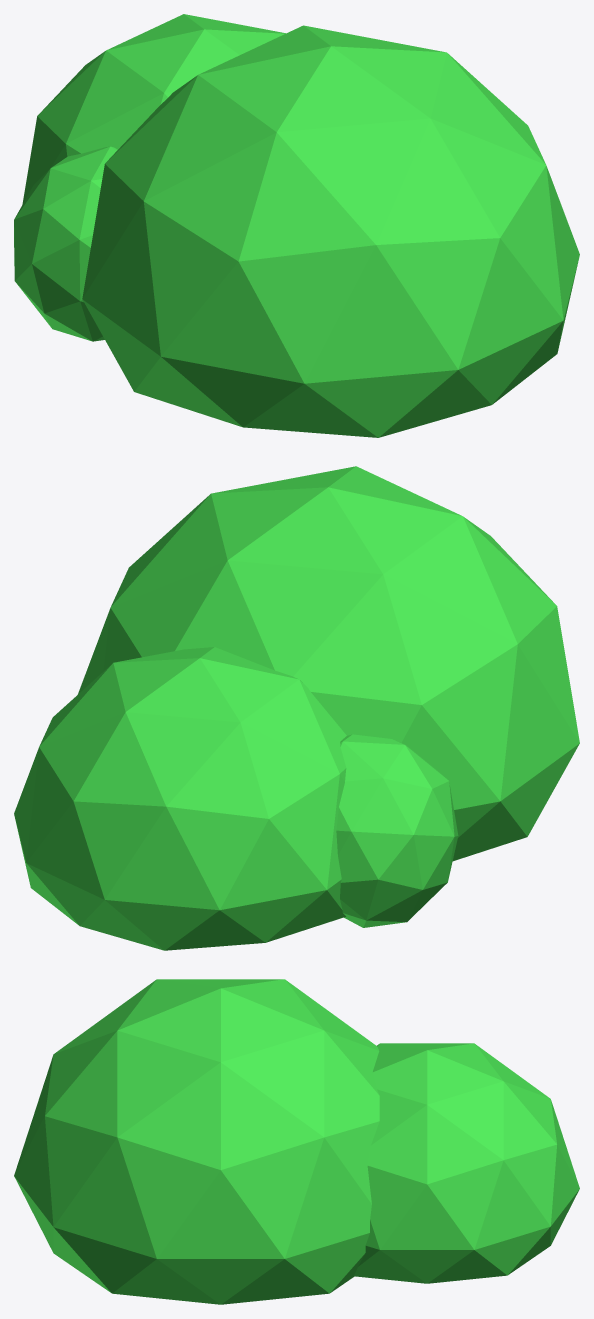
File: bush.fbx
3 views of the same model, one above another, from view 1: azimuth 30°, elevation 25°; view 2: azimuth 150°, elevation 25°; view 3: azimuth 270°, elevation 25° (orthographic). The views are drawn at different scales.
Visible parts, largest first — view 1: Icosphere.002; view 2: Icosphere.002; view 3: Icosphere.002.
Part boxes in pixels (x1=…): Icosphere.002: x1=14, y1=14, x2=579, y2=437; Icosphere.002: x1=14, y1=466, x2=579, y2=950; Icosphere.002: x1=14, y1=979, x2=579, y2=1304.
Size of the model in its own units: 191 by 138 by 274.
